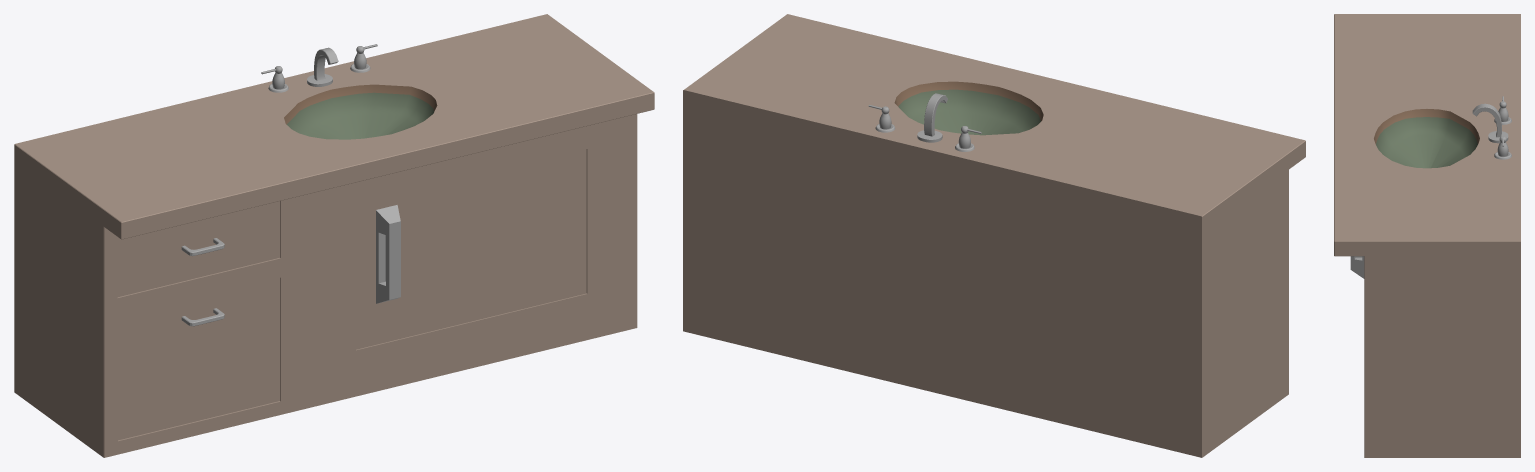
Rendered from labavo(baño).fbx.
3 views of the same model, side by side, from view 1: azimuth 30°, elevation 25°; view 2: azimuth 150°, elevation 25°; view 3: azimuth 270°, elevation 25° (orthographic). The views are drawn at different scales.
Parts seen in each view (by area): view 1: mesa, caño; view 2: mesa, caño; view 3: mesa, caño.
Boxes of the visible parts, x1,y1,x2,y2 form: mesa: [14, 14, 654, 457]; caño: [261, 44, 377, 92]; mesa: [683, 14, 1305, 457]; caño: [868, 93, 981, 151]; mesa: [1334, 14, 1520, 457]; caño: [1472, 96, 1511, 159].
Bounding box in the file's own units: 1.8 × 0.9224 × 0.6251.
